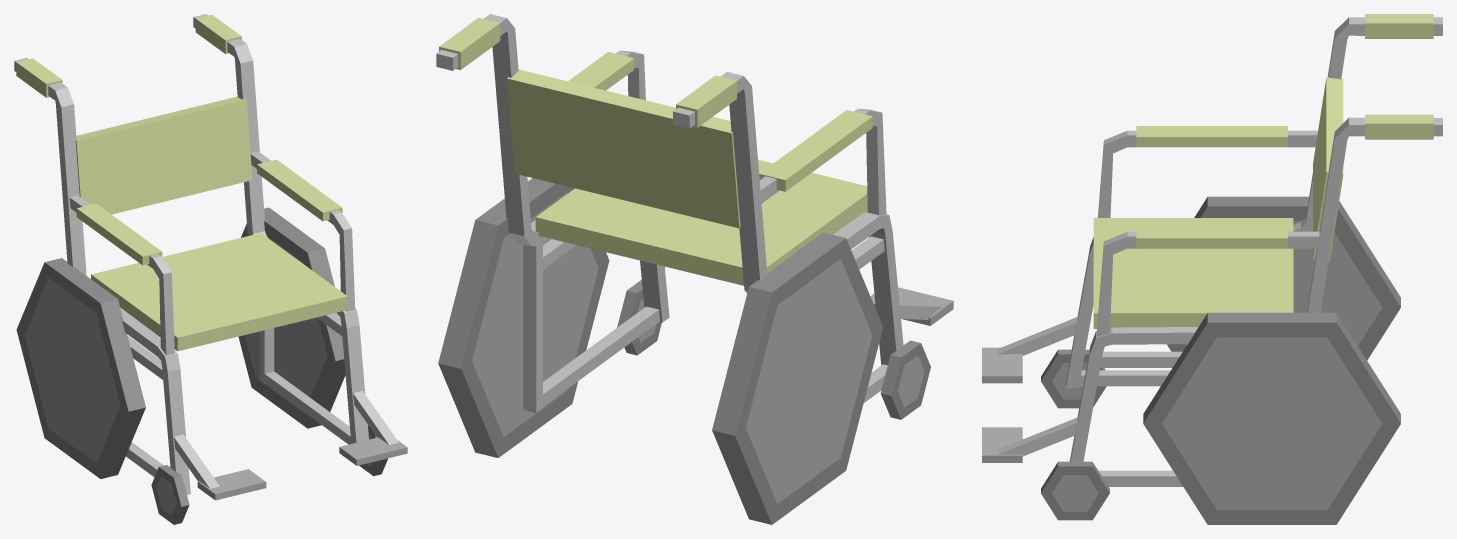
The model's file is wheelchair_1.fbx.
3 views of the same model, side by side, from view 1: azimuth 30°, elevation 25°; view 2: azimuth 150°, elevation 25°; view 3: azimuth 270°, elevation 25° (orthographic). The views are drawn at different scales.
Parts seen in each view (by area): view 1: Cube_2; view 2: Cube_2; view 3: Cube_2.
Boxes of the visible parts, x1,y1,x2,y2 form: Cube_2: [14, 14, 407, 524]; Cube_2: [436, 14, 953, 524]; Cube_2: [982, 14, 1442, 524].
Bounding box in the file's own units: 35.58 × 51.75 × 54.99.
